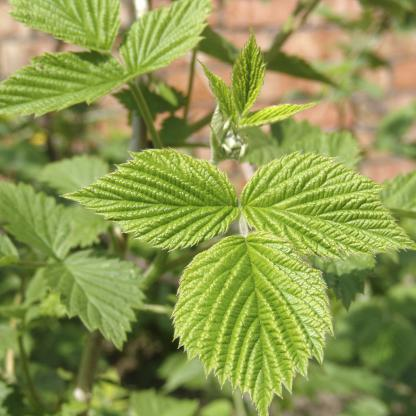raspberry leaf: (173, 228, 336, 415), (58, 145, 242, 252), (239, 150, 416, 258)
